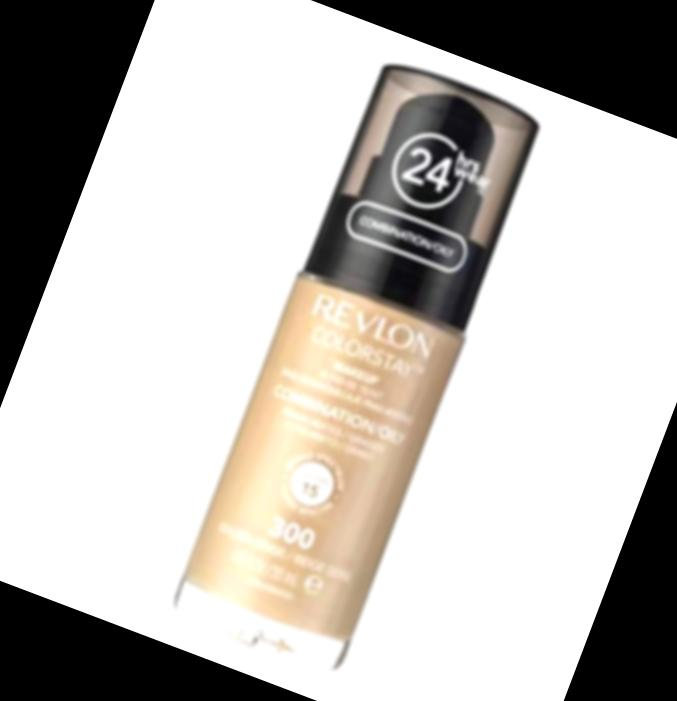cosmetic: (169, 53, 552, 673)
